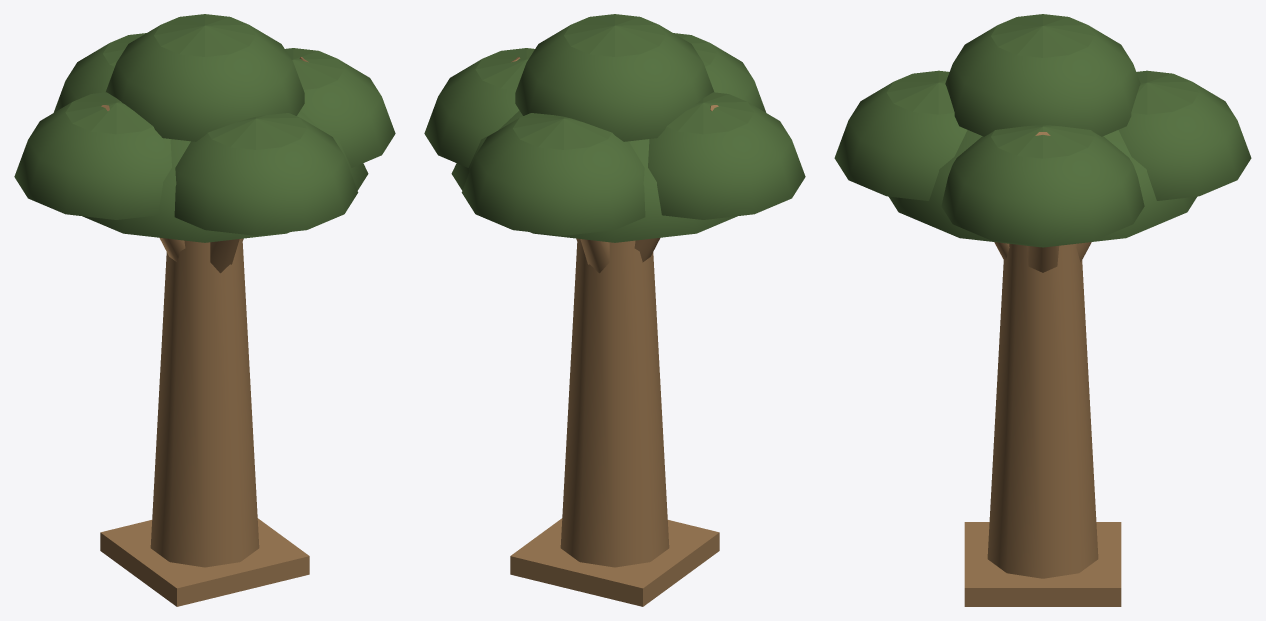
The picture shows the model from 3 angles, left to right: view 1: azimuth 30°, elevation 25°; view 2: azimuth 150°, elevation 25°; view 3: azimuth 270°, elevation 25°; orthographic projection. The views are drawn at different scales.
Visible parts, largest first — view 1: old-locust-a@1.0.0; view 2: old-locust-a@1.0.0; view 3: old-locust-a@1.0.0.
Part boxes in pixels (x1,y1,x2,y2): old-locust-a@1.0.0: (14,14,395,606); old-locust-a@1.0.0: (424,14,805,606); old-locust-a@1.0.0: (834,14,1251,606).
Size of the model in its own units: 4 by 5.8 by 4.
